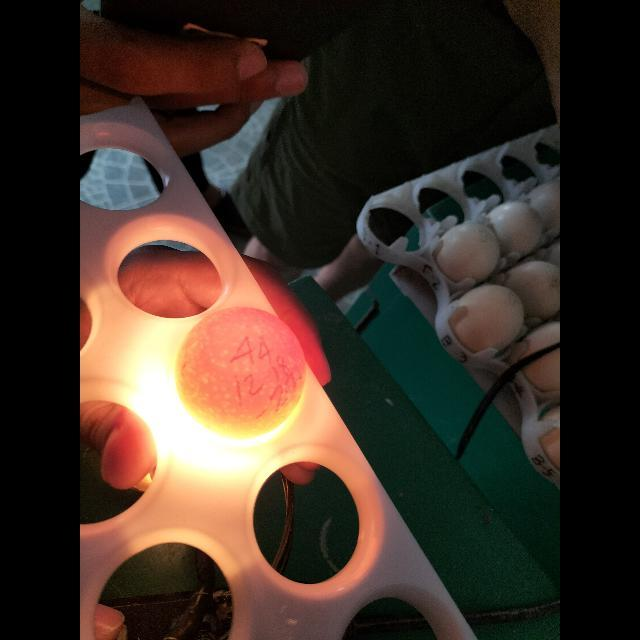Infertile: (180, 306, 302, 438)
